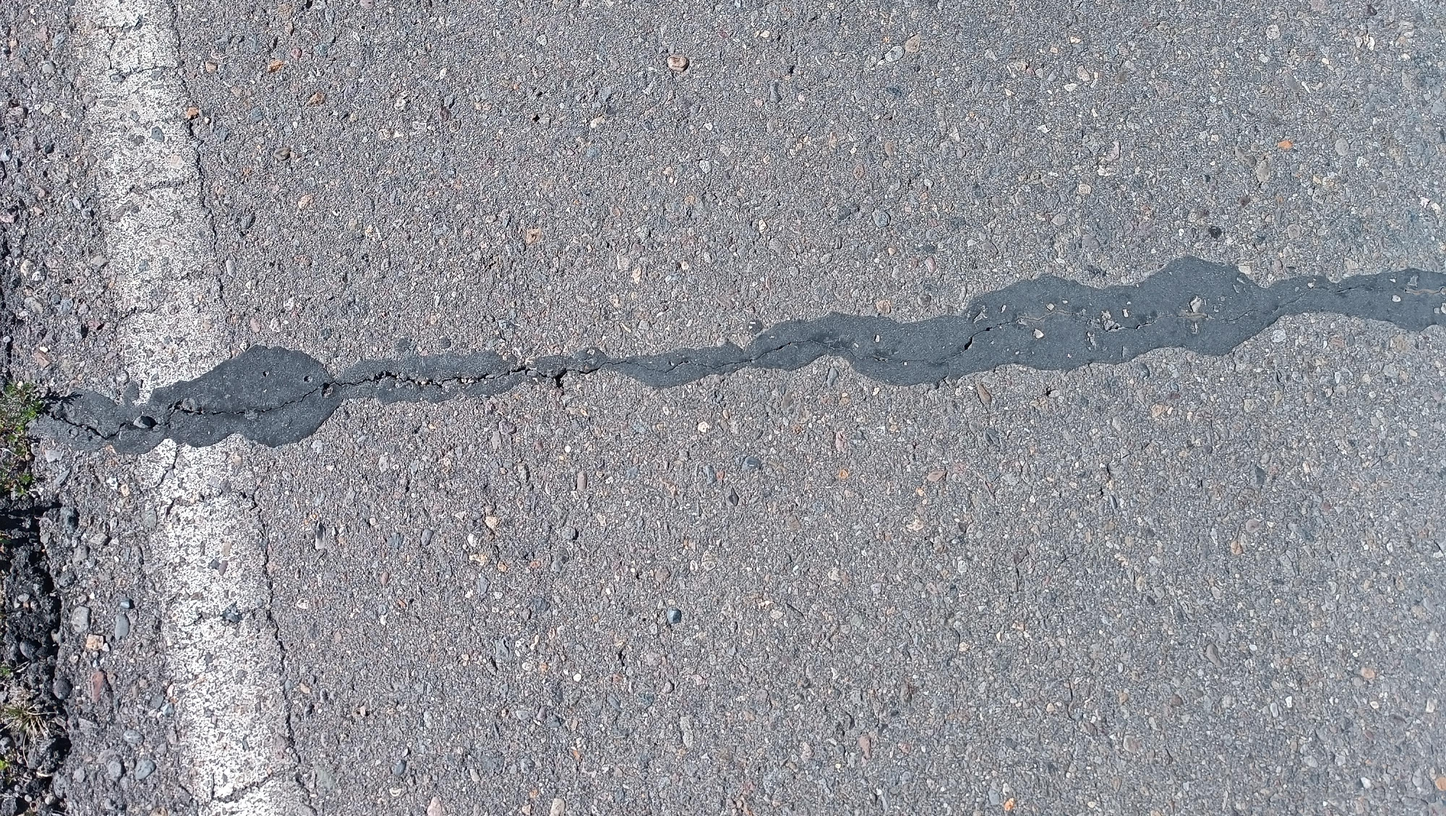GRIETA: (165, 338, 946, 430)
PARCHE: (46, 257, 1446, 452)
